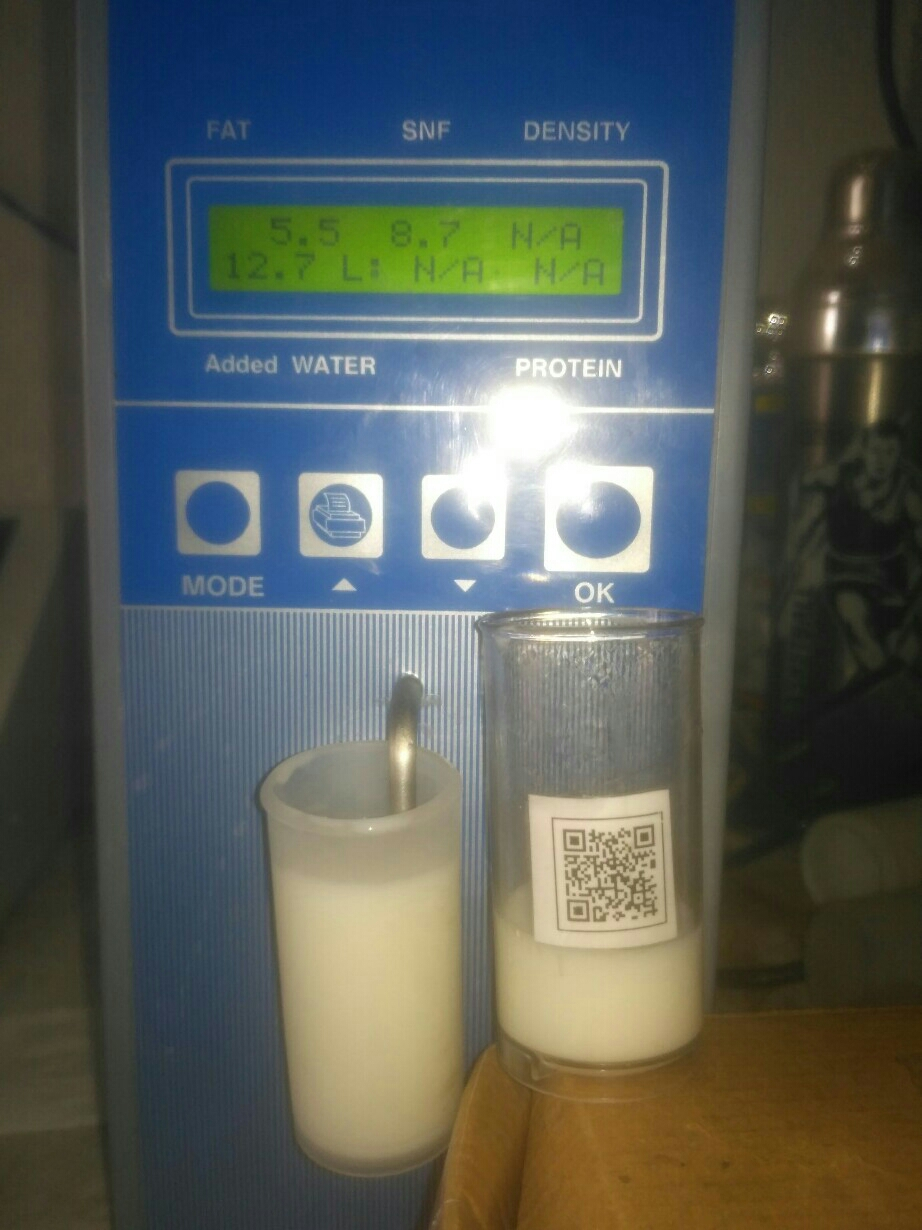lcd: (192, 196, 643, 298)
qr: (532, 801, 688, 948)
